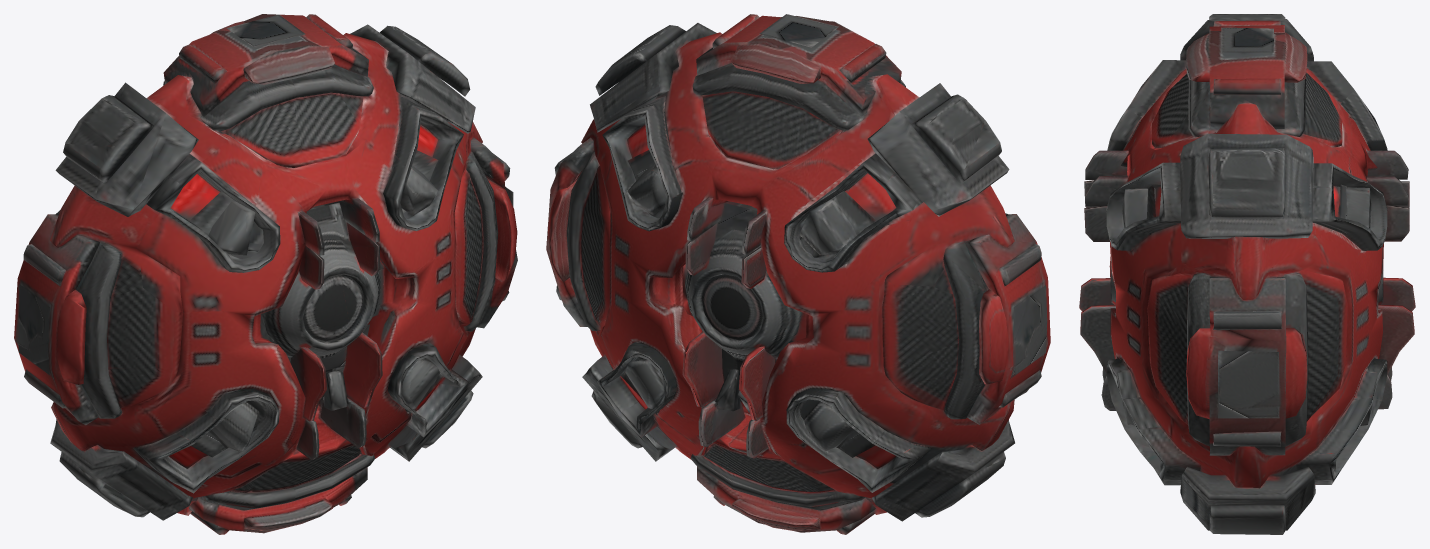
Rendered from red.glb.
3 views of the same model, side by side, from view 1: azimuth 30°, elevation 25°; view 2: azimuth 150°, elevation 25°; view 3: azimuth 270°, elevation 25° (orthographic). The views are drawn at different scales.
Visible parts, largest first — view 1: mesh_node; view 2: mesh_node; view 3: mesh_node.
Boxes of the visible parts, left/top/right/bottom form: mesh_node: left=14, top=14, right=517, bottom=534; mesh_node: left=546, top=14, right=1050, bottom=534; mesh_node: left=1079, top=14, right=1415, bottom=534.
Bounding box in the file's own units: 1 × 0.9922 × 0.6445.
Materials: 1 (1 with a texture image).
